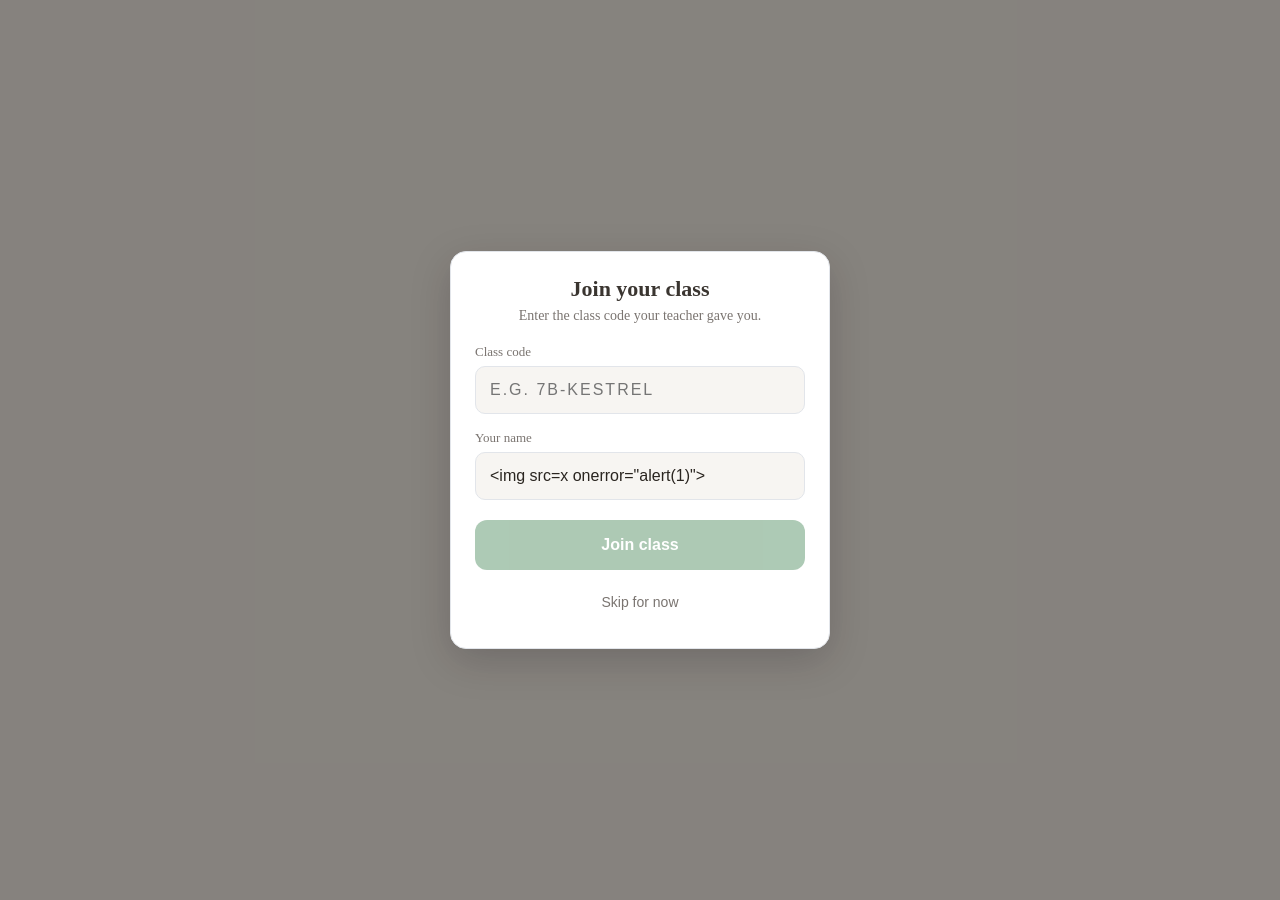
Scenario: EnrolOverlay — enrol flow › CLASS D — a hostile display name echoes on the success screen as inert text, no live node
The width and height of the screenshot is (1280, 900).
In the field with id "enrol-code": (640, 390) [475,366,805,414], type "DEMO-CLASS-1"
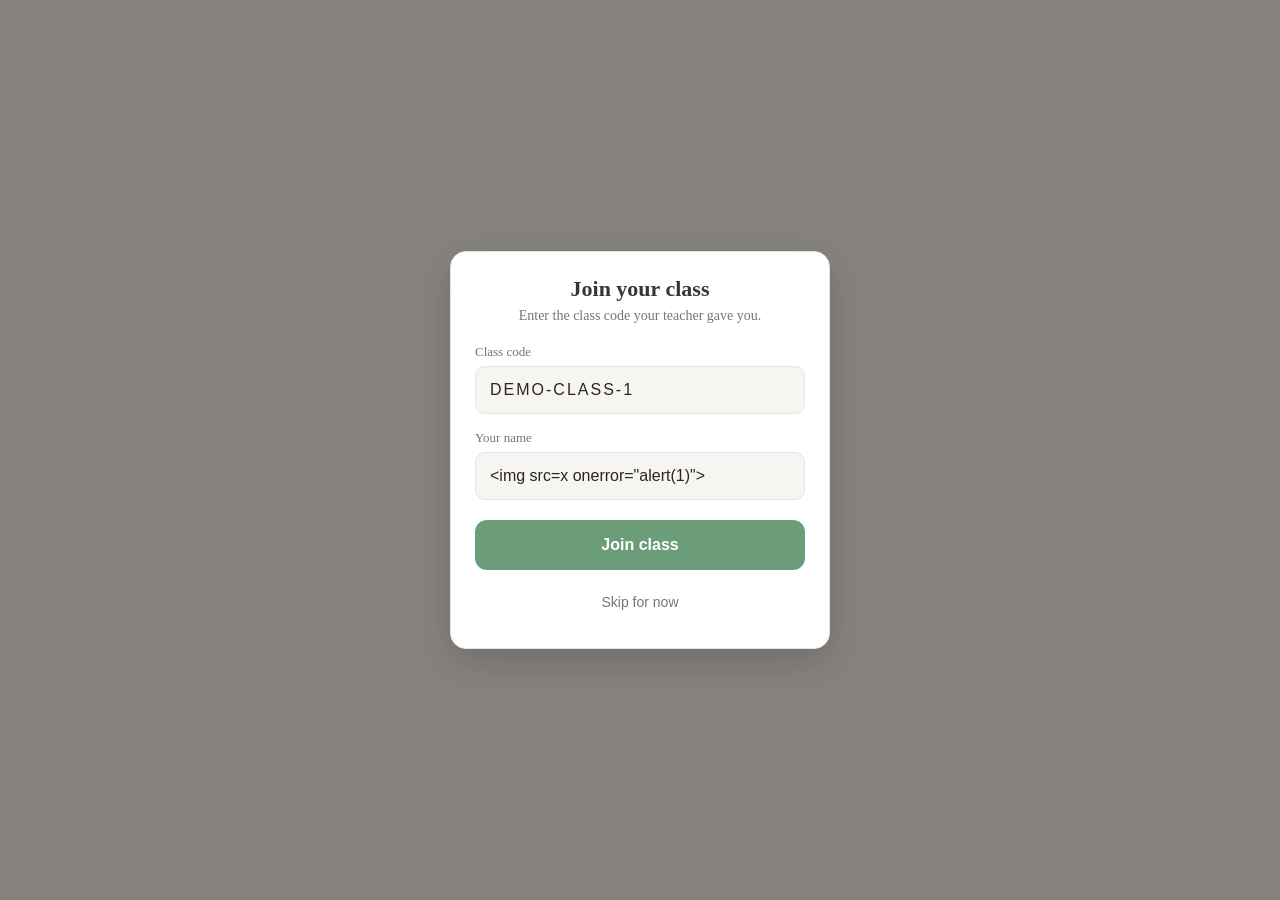
Click the button "Join class": (640, 545) [475,520,805,570]
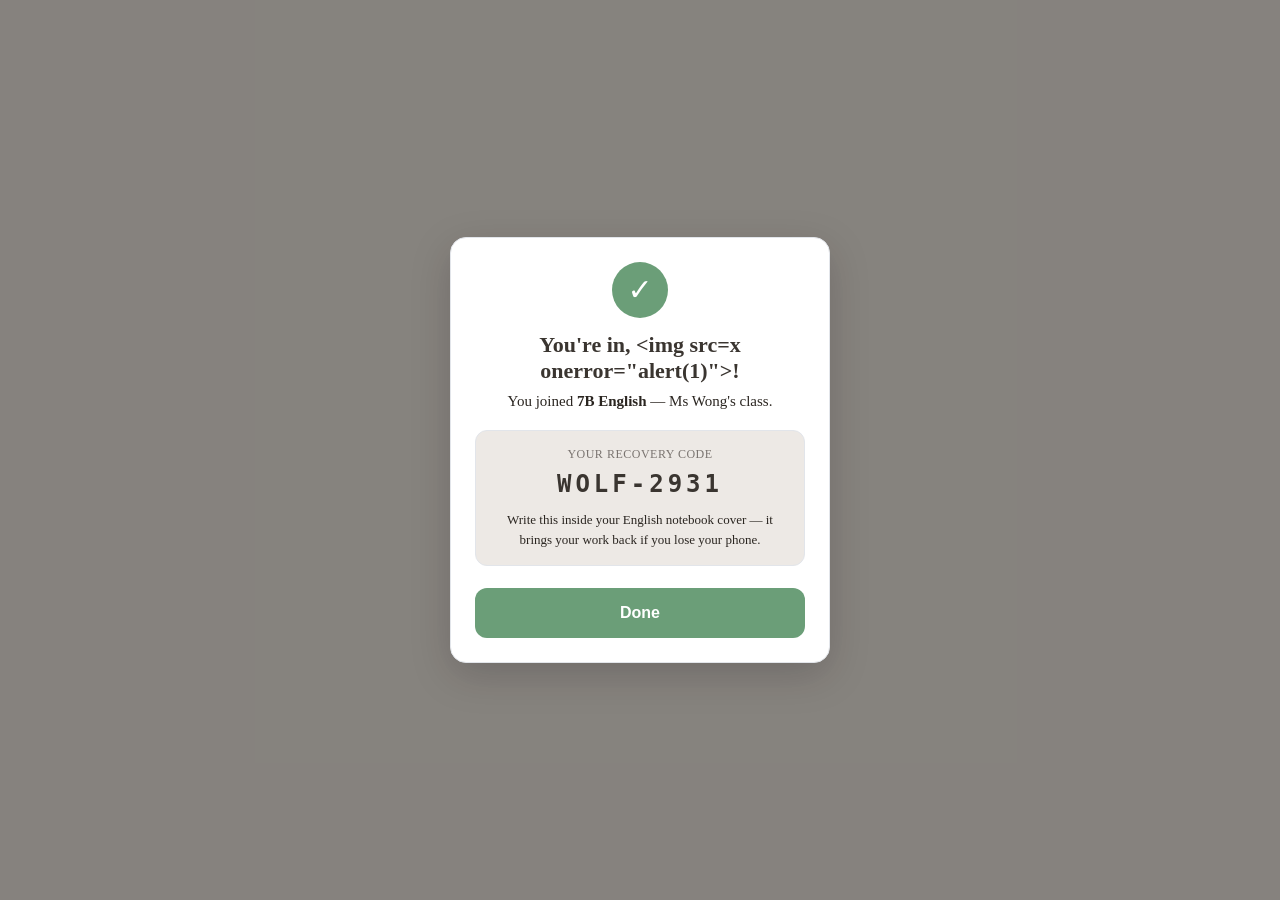
Result: the text "You're in" is shown at [539,332,625,357]
